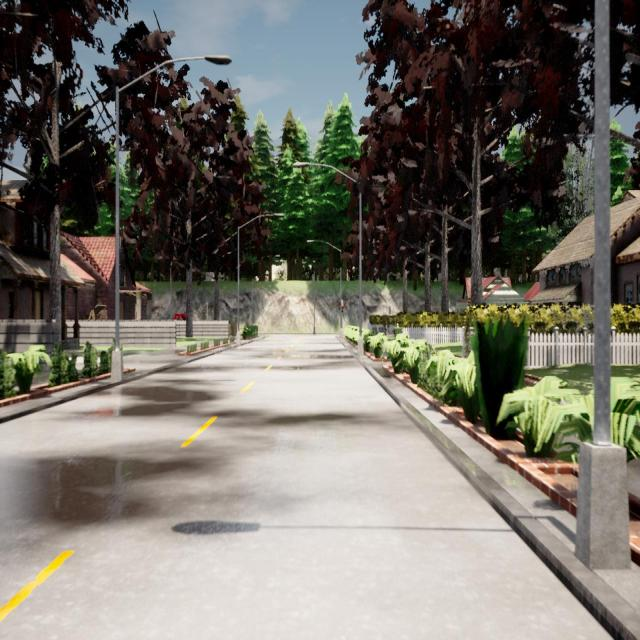traffic_light: (341, 303, 344, 313)
